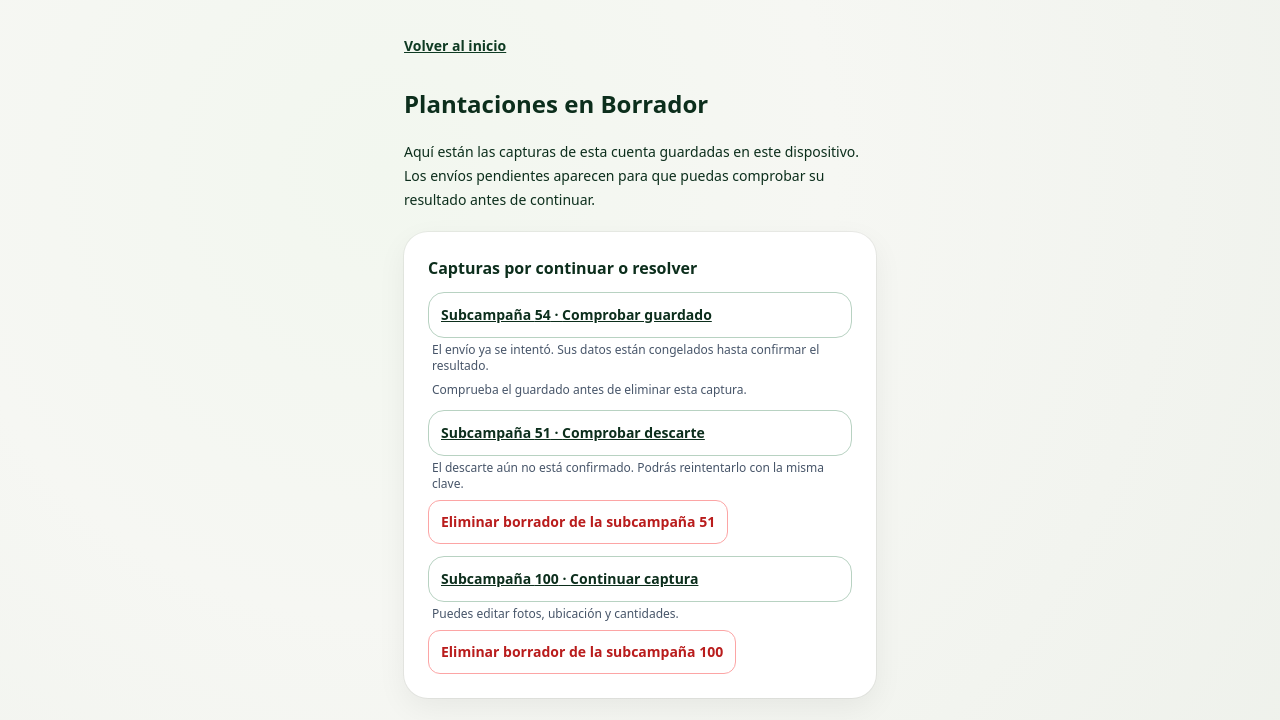
Scenario: plantaciones en borrador › conserva la captura y exige nueva revisión si el descarte no fue confirmado
Check: the link "Subcampaña 51 · Comprobar descarte" is shown, box 428,410 -> 852,456
Click the button "Eliminar borrador de la subcampaña 51" at (578,522), box 428,500 -> 728,544
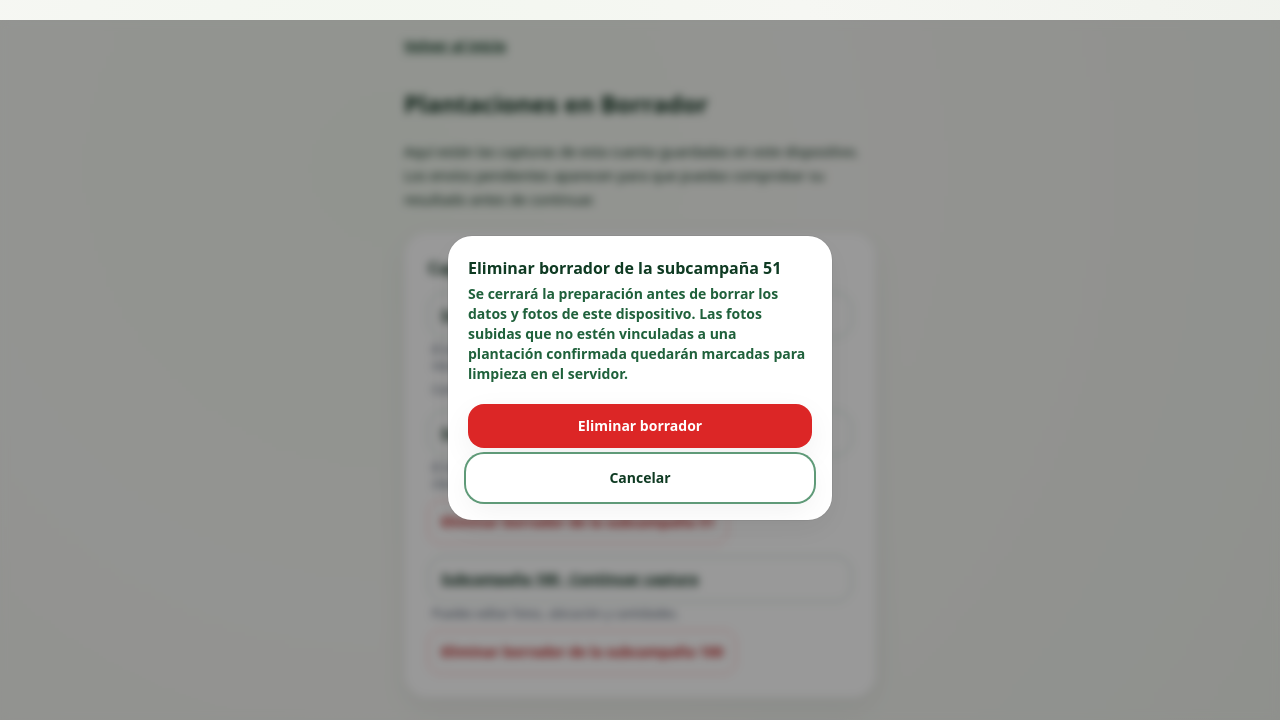
Click the button "Eliminar borrador" at (640,426), box 468,404 -> 812,448
(page scrolled)
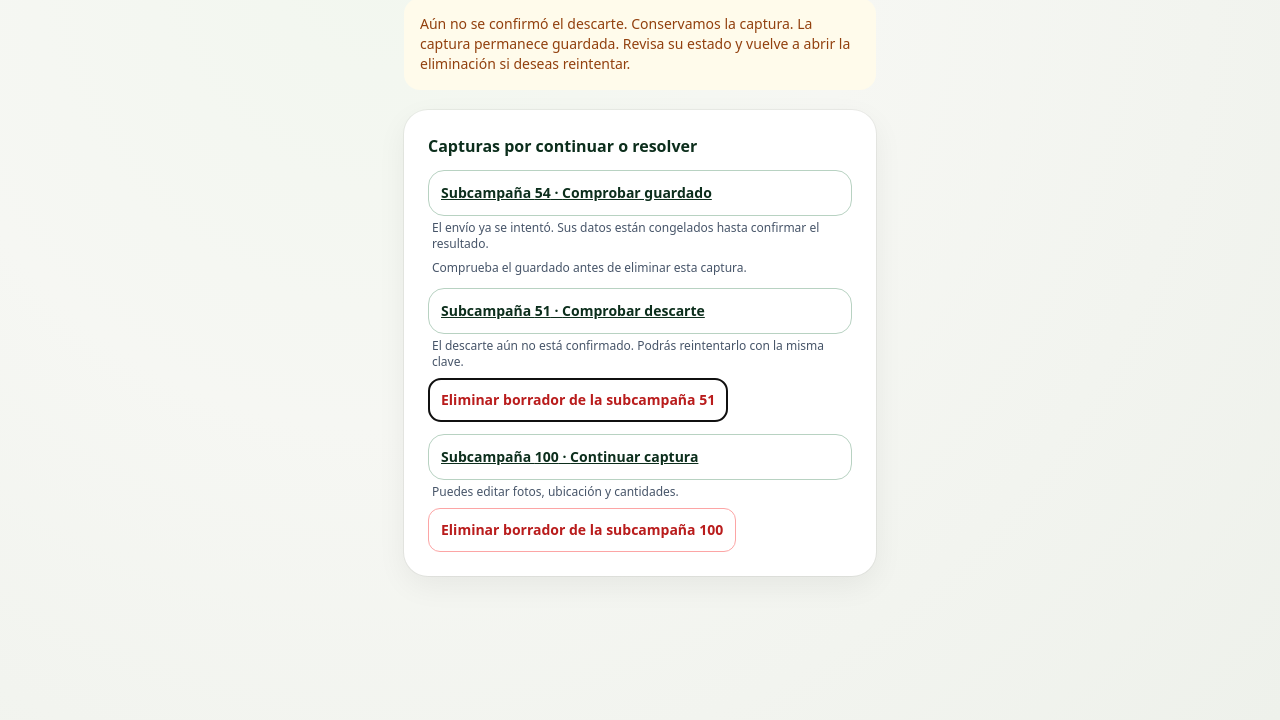
Check: the link "Subcampaña 51 · Comprobar descarte" is shown, box 428,288 -> 852,334
Check: the dialog is gone
